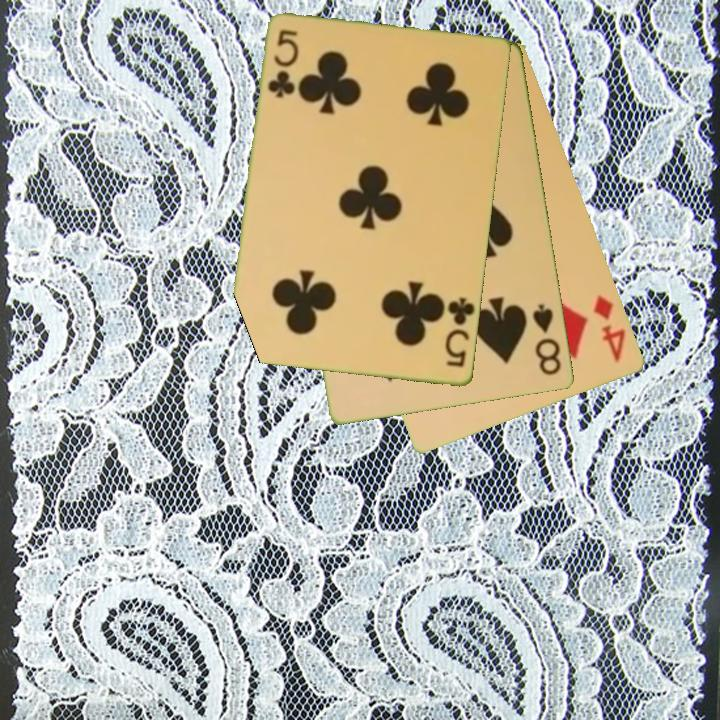4d: (590, 291, 629, 366)
5c: (264, 26, 301, 102), (442, 294, 478, 370)
8s: (529, 300, 565, 379)
